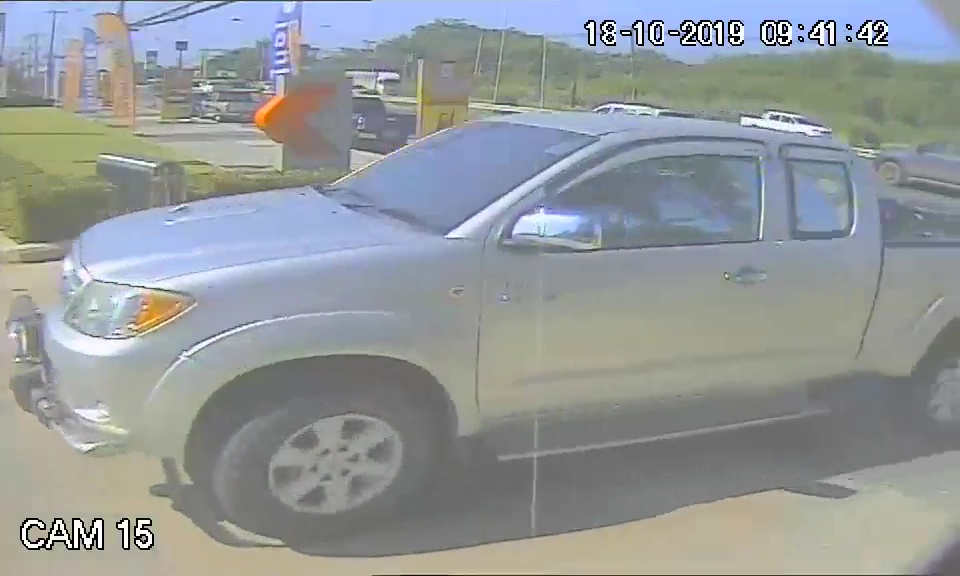pickup: (24, 110, 958, 518)
